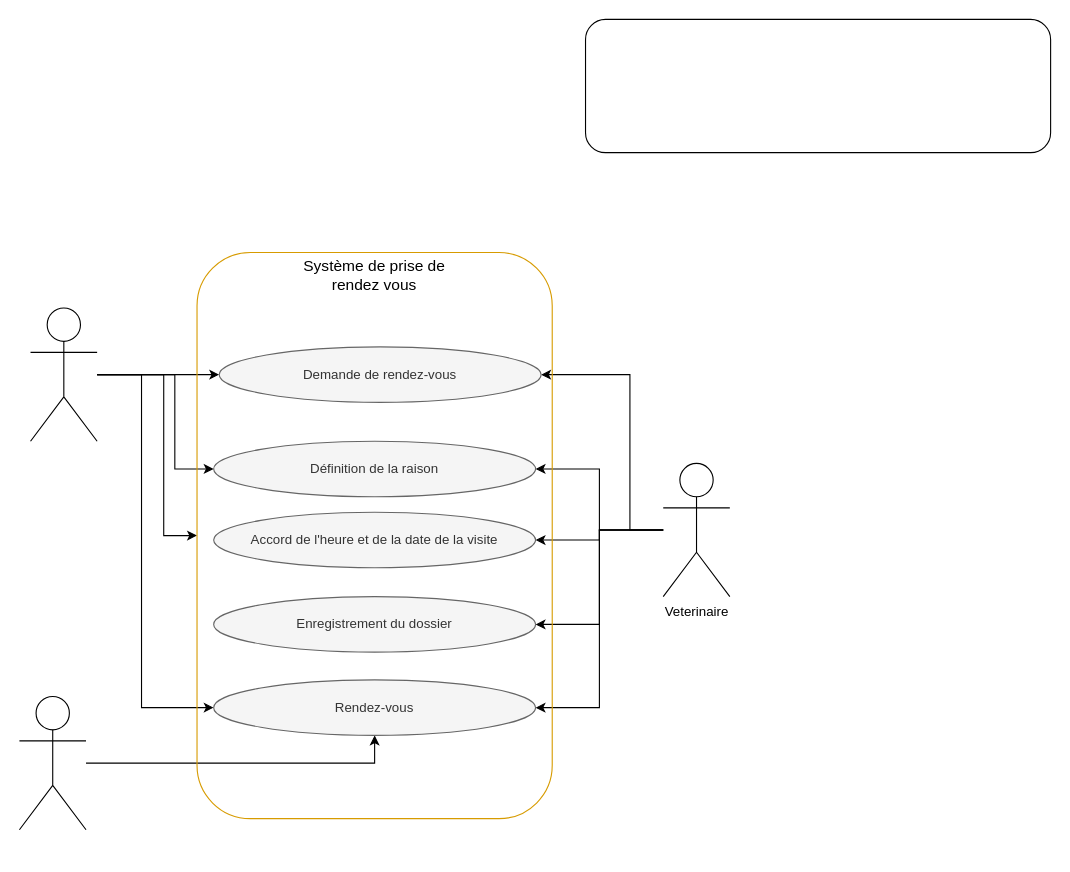
Image size: 1070x872. Some labels were removed from this diagram. The shapes that lost their labels are listed below. From the top down, each one's centre as x and y in pixels, then its label:
At (x=817, y=85): "Diagramme de cas d'utilisation : Système de prise de rendez-vous".
At (x=63, y=374): "Propriétaire".
At (x=52, y=762): "Animal".
